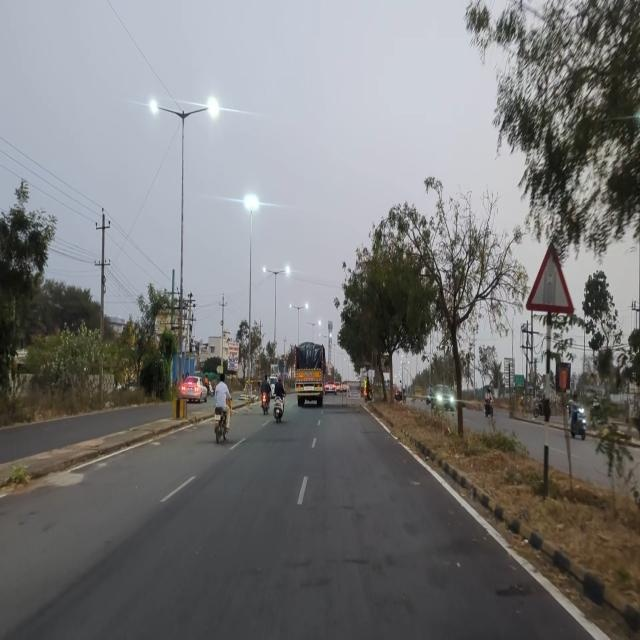bien_nguy_hiem: (523, 242, 576, 314)
